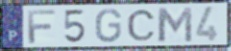4: (194, 5, 221, 44)
5: (63, 8, 87, 44)
C: (126, 9, 158, 42)
F: (26, 8, 57, 45)
G: (94, 8, 123, 44)
M: (155, 6, 194, 43)
